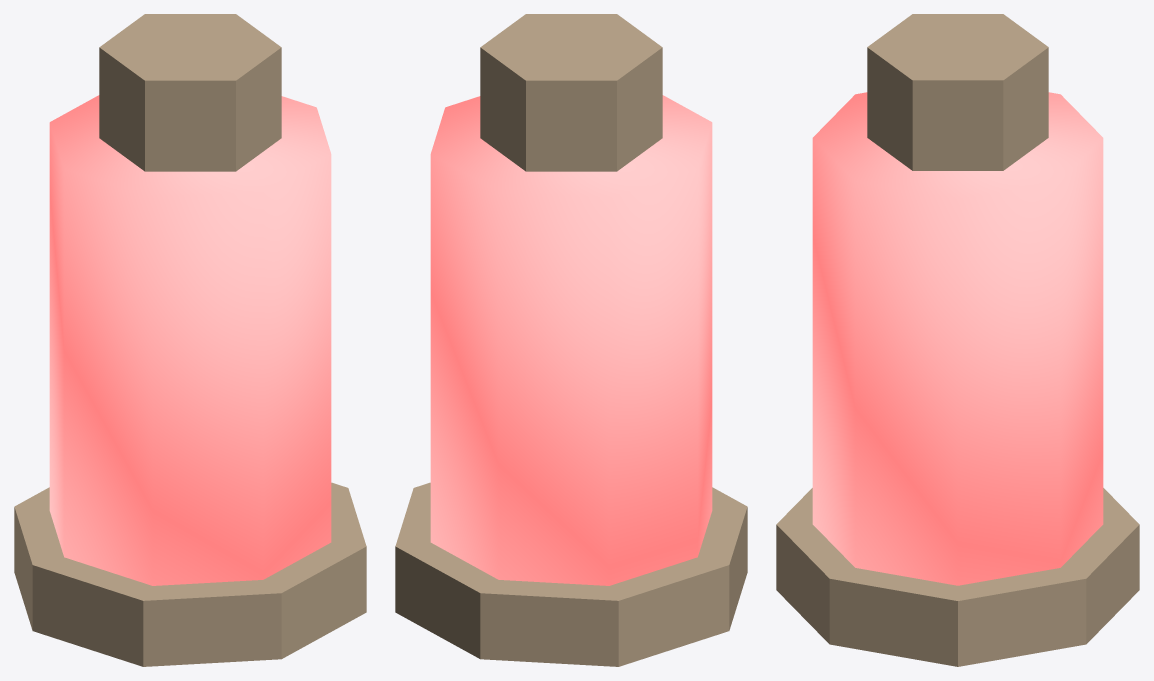
File: health_prompt.glb
3 renders of one model, left to right at view 1: azimuth 30°, elevation 25°; view 2: azimuth 150°, elevation 25°; view 3: azimuth 270°, elevation 25°, orthographic.
Visible parts, largest first — view 1: VialBody, VialBase, Cork; view 2: VialBody, VialBase, Cork; view 3: VialBody, VialBase, Cork.
Part boxes in pixels (x1,y1,x2,y2): VialBody: [49, 95, 331, 585]; VialBase: [14, 482, 366, 666]; Cork: [99, 14, 281, 171]; VialBody: [430, 95, 712, 585]; VialBase: [395, 482, 747, 666]; Cork: [480, 14, 662, 171]; VialBody: [812, 92, 1103, 585]; VialBase: [776, 488, 1139, 666]; Cork: [867, 14, 1048, 170].
Size of the model in its own units: 0.2 by 0.33 by 0.2.
